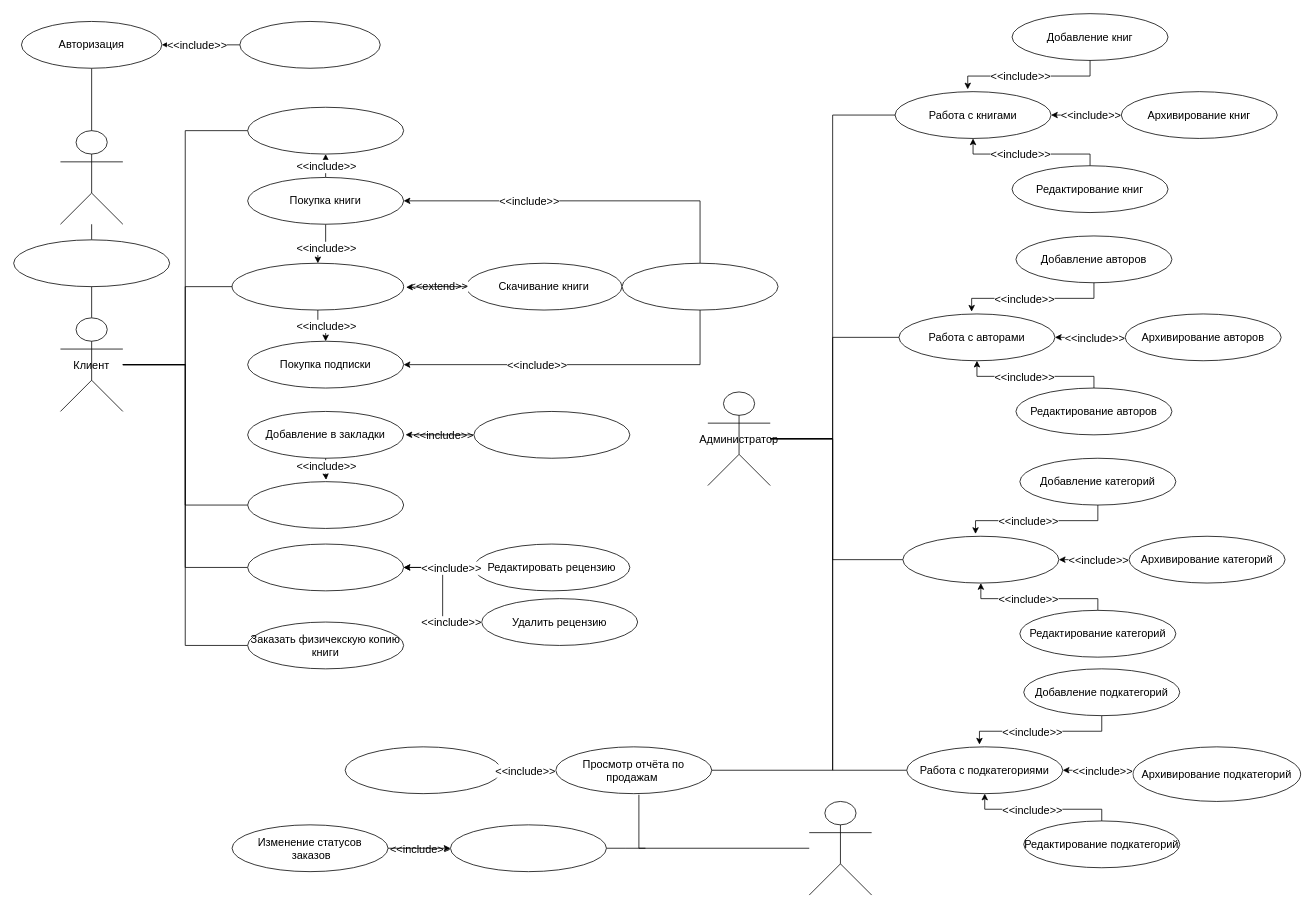
The diagram is 1314 pixels wide and 909 high, and some of its shapes have lost their labels. Each missing label, with the box of its shape:
Менеджер: (808, 801, 872, 895)
Неавторизованный пользователь: (60, 130, 123, 224)
Оставить рецензию с оценкой: (247, 543, 404, 591)
Получить чек: (621, 262, 778, 310)
Просмотр закладок: (247, 481, 404, 528)
Просмотр каталога: (13, 239, 170, 287)
Просмотр личной библиотеки: (247, 106, 404, 154)
Работа с заказами: (450, 824, 606, 872)
Работа с категориями: (902, 535, 1059, 583)
Регистрация: (239, 21, 380, 68)
Удаление закладки: (473, 411, 630, 458)
формирование отчёта: (344, 746, 501, 794)
Чтение/Прослушивание книги: (231, 262, 404, 310)
